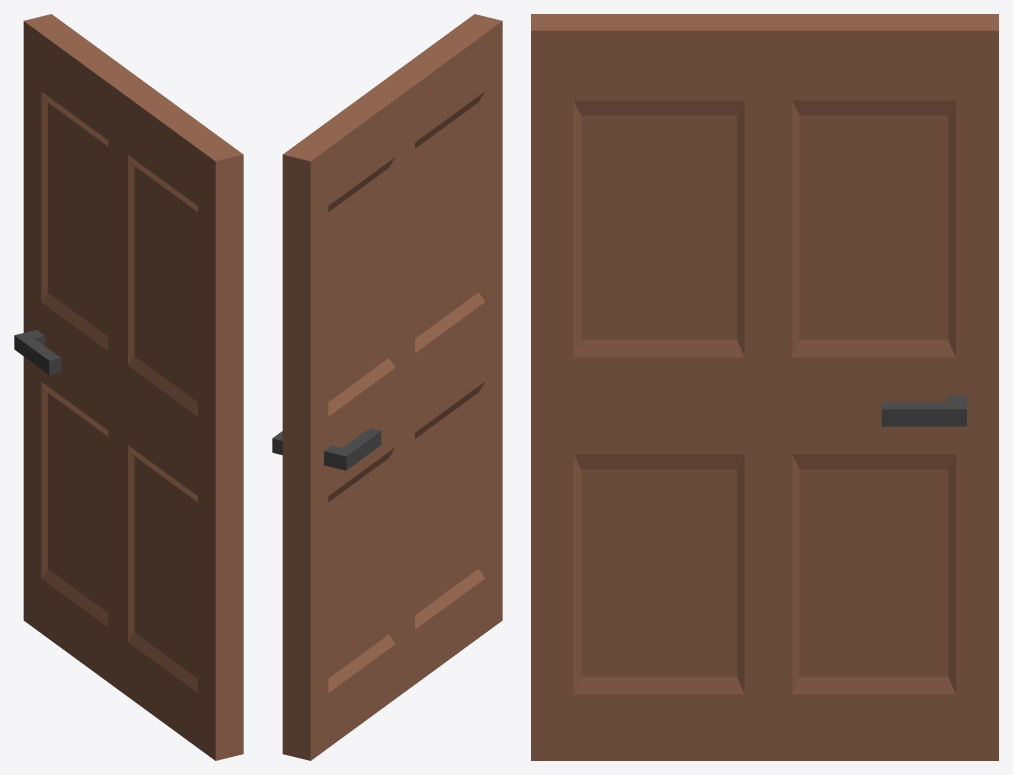
Rendered from PuertaCuarto.fbx.
3 renders of one model, left to right at view 1: azimuth 30°, elevation 25°; view 2: azimuth 150°, elevation 25°; view 3: azimuth 270°, elevation 25°, orthographic. The views are drawn at different scales.
Visible parts, largest first — view 1: Puerta.001, Manija.002; view 2: Puerta.001, Manija.002; view 3: Puerta.001, Manija.003.
Part boxes in pixels (x1,y1,x2,y2): Puerta.001: (23, 14, 243, 760); Manija.002: (14, 330, 61, 374); Puerta.001: (282, 14, 502, 760); Manija.002: (324, 428, 381, 470); Puerta.001: (531, 14, 998, 760); Manija.003: (881, 395, 966, 426).
Size of the model in its own units: 37.1 by 287 by 167.
